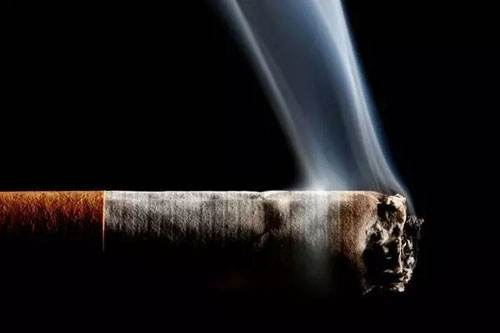smoke: (225, 1, 406, 192)
